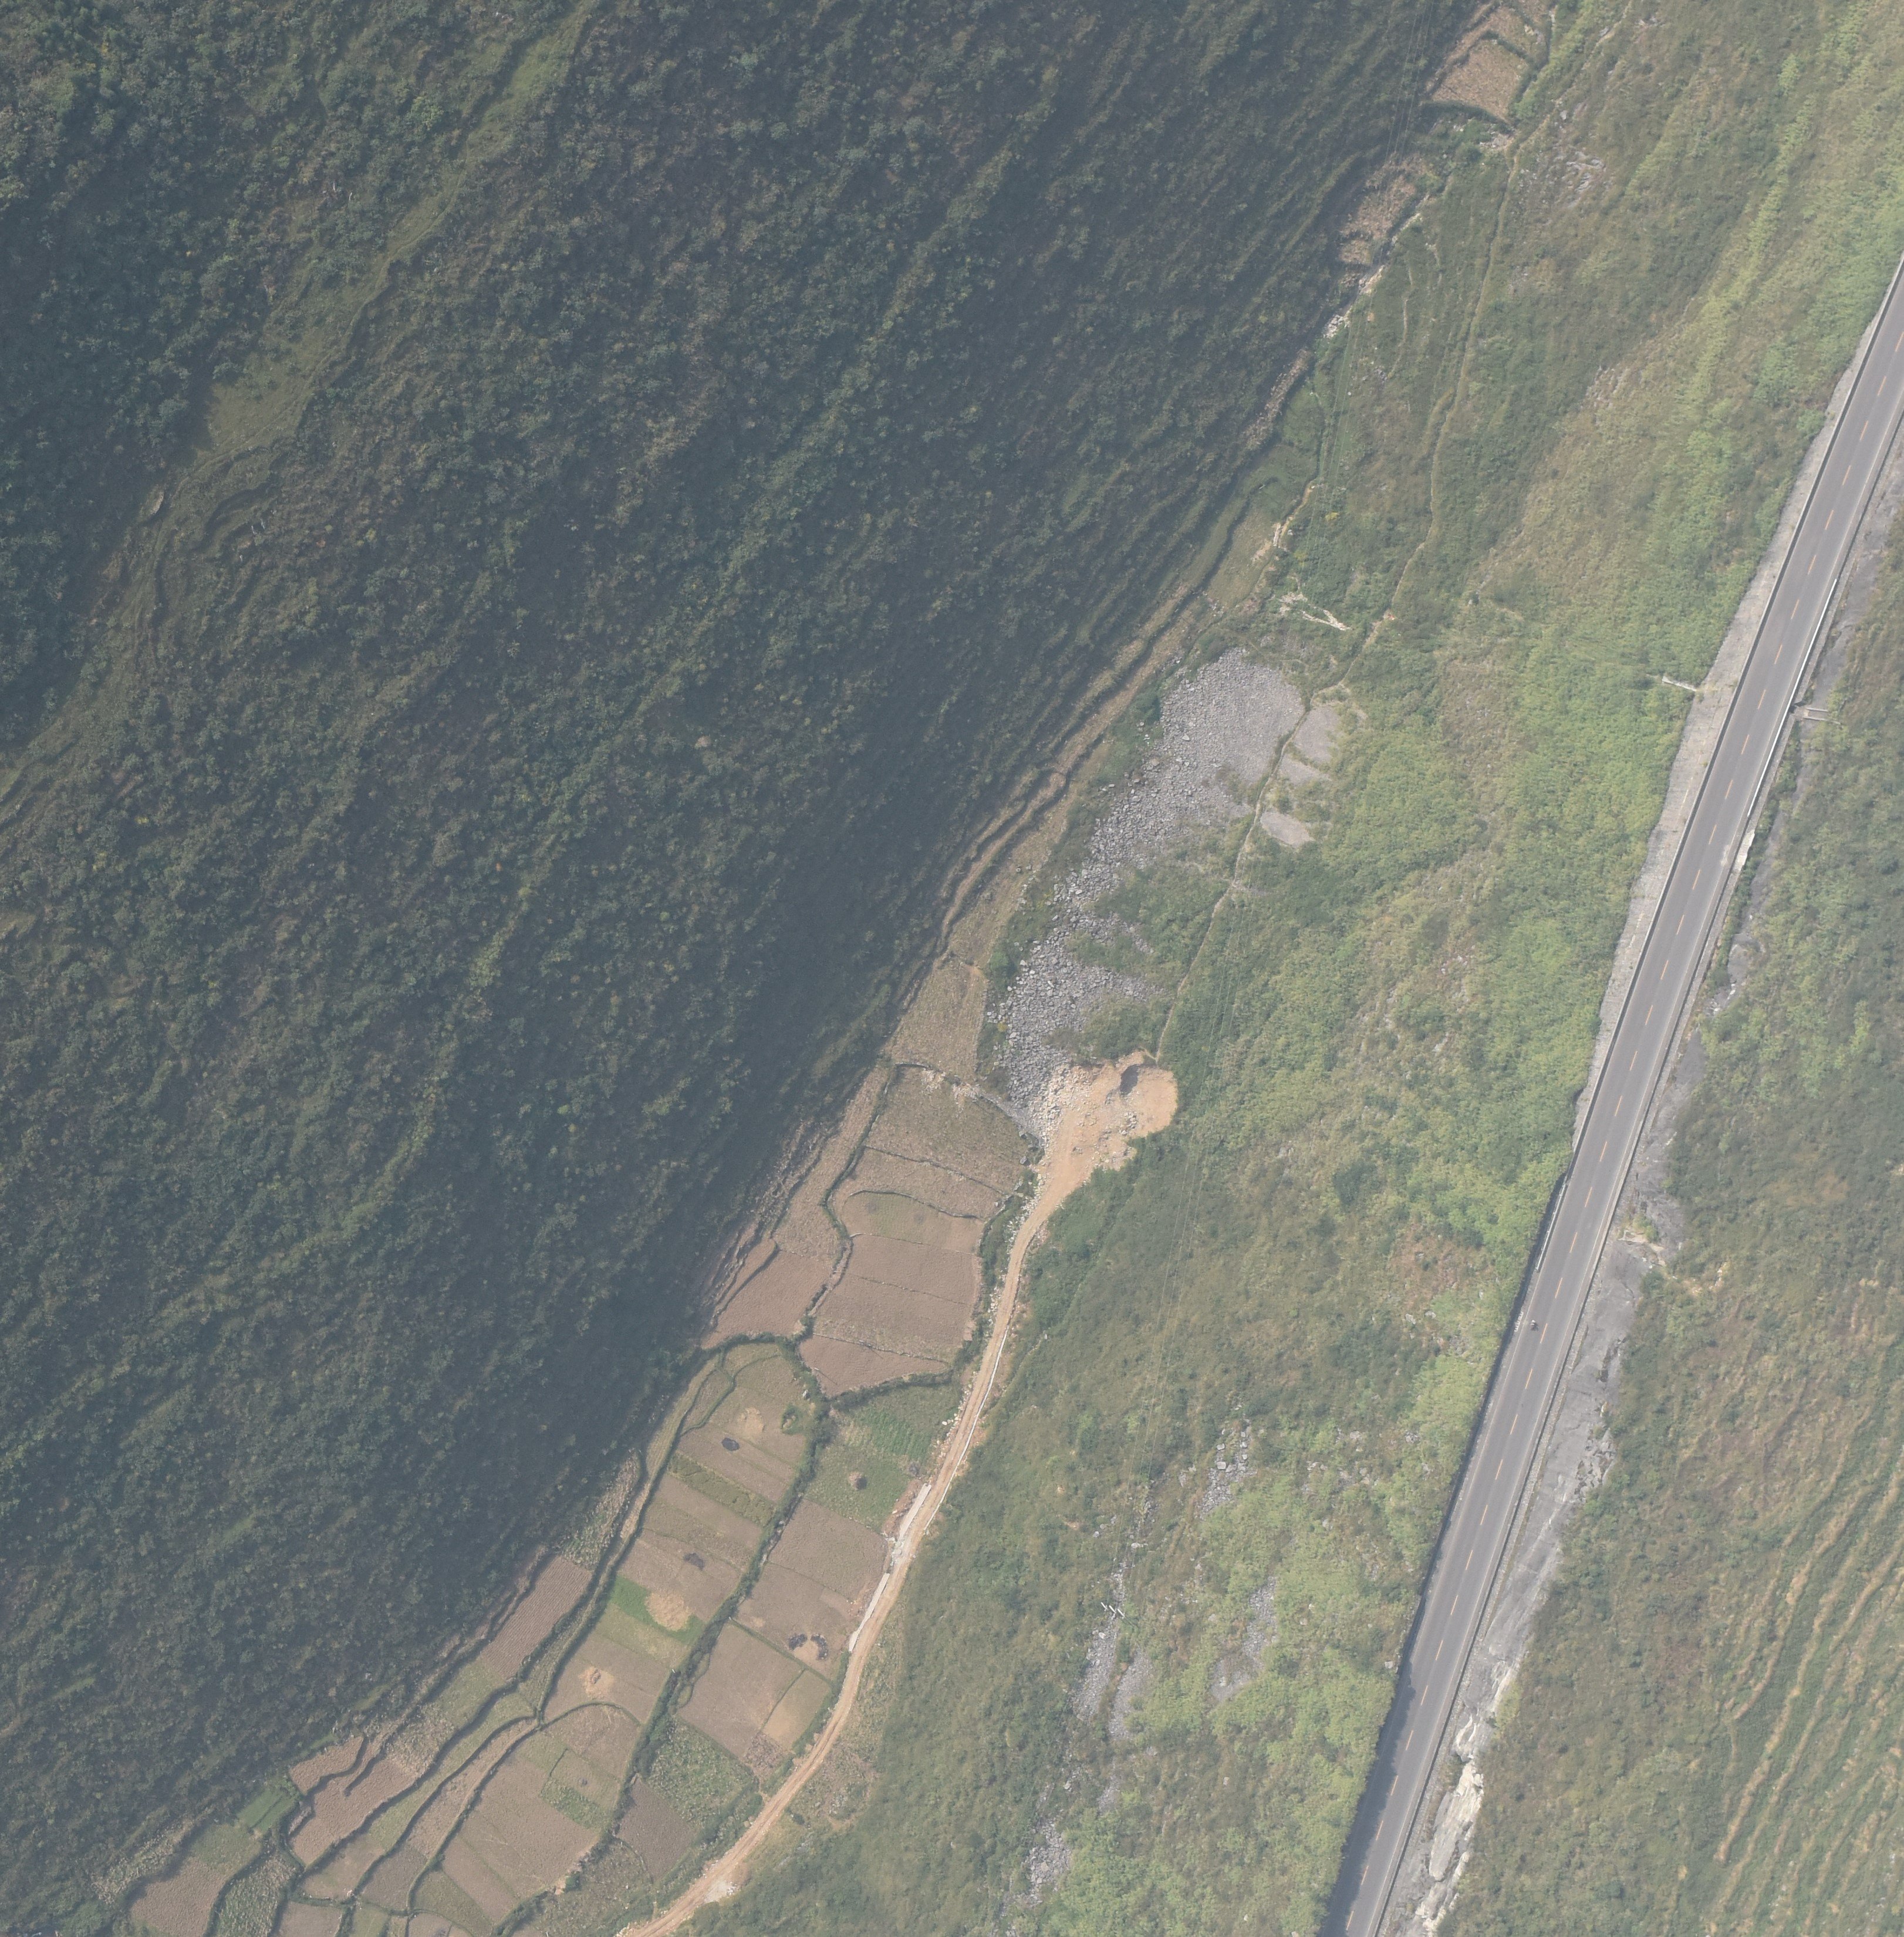quarry: (985, 647, 1301, 1126)
